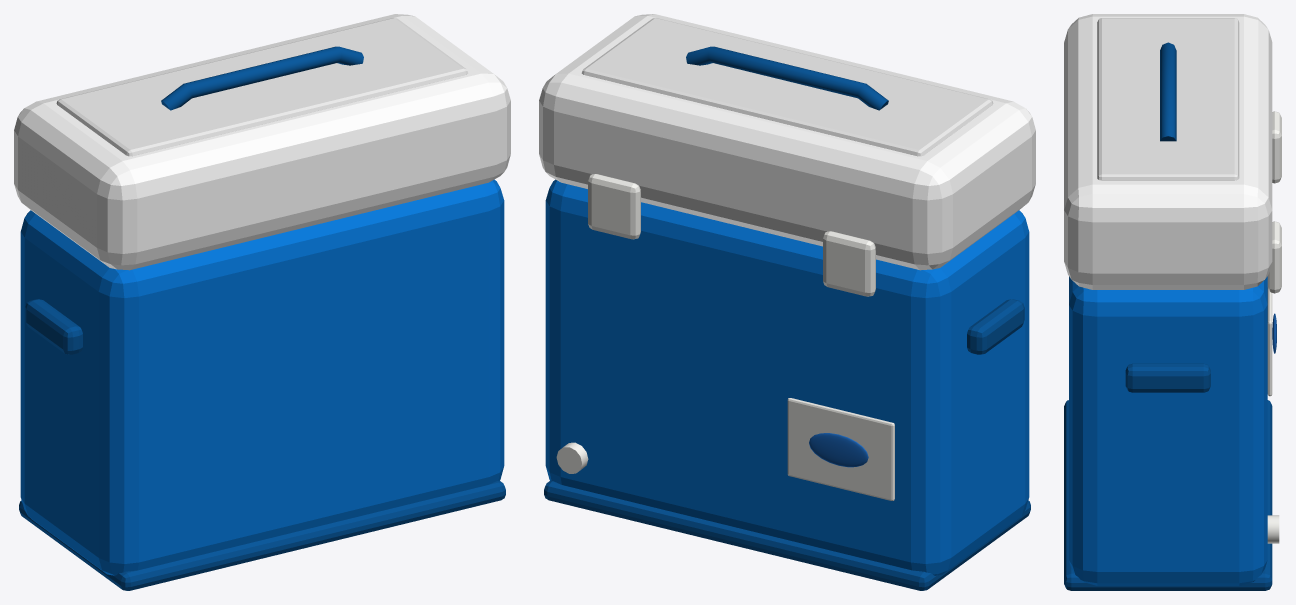
The model's file is cooler.fbx.
The picture shows the model from 3 angles, left to right: view 1: azimuth 30°, elevation 25°; view 2: azimuth 150°, elevation 25°; view 3: azimuth 270°, elevation 25°; orthographic projection. The views are drawn at different scales.
Parts seen in each view (by area): view 1: Cooler; view 2: Cooler; view 3: Cooler.
Boxes of the visible parts, bbox=[...] form: Cooler: bbox=[14, 14, 510, 590]; Cooler: bbox=[539, 14, 1035, 590]; Cooler: bbox=[1064, 14, 1281, 590].
Size of the model in its own units: 2.04 by 1.98 by 0.92.
